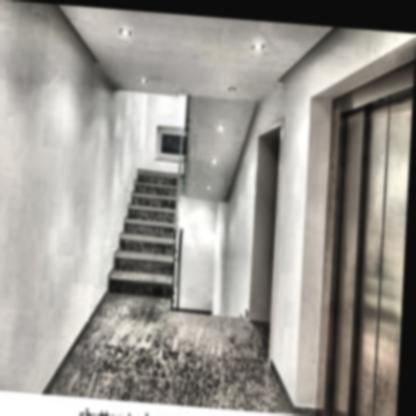stair: (102, 162, 189, 302)
